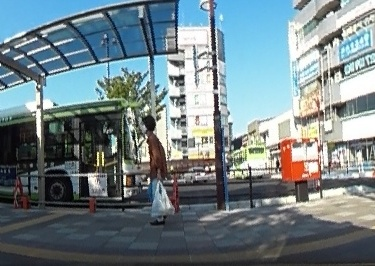person: (139, 112, 172, 222)
